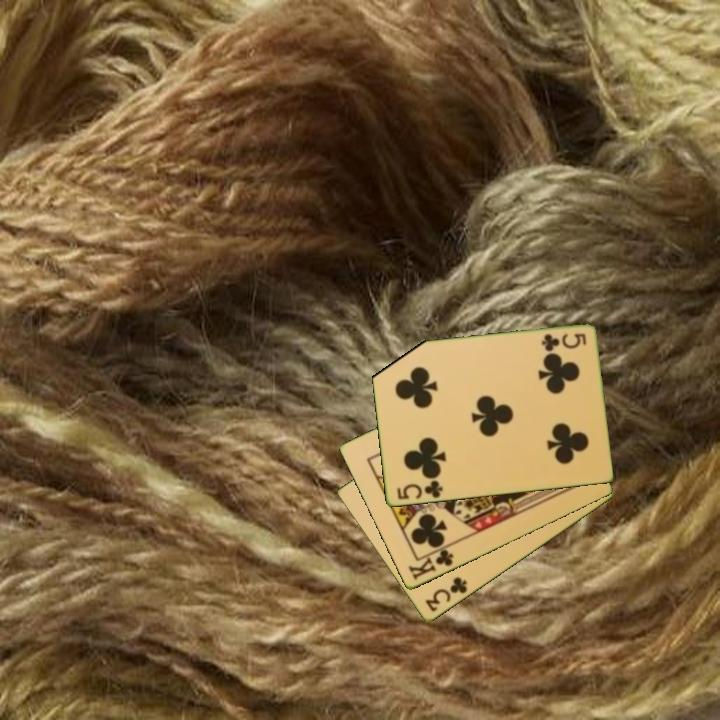3c: (421, 574, 470, 615)
5c: (393, 477, 445, 503), (537, 330, 589, 354)
Kc: (404, 542, 457, 584)
